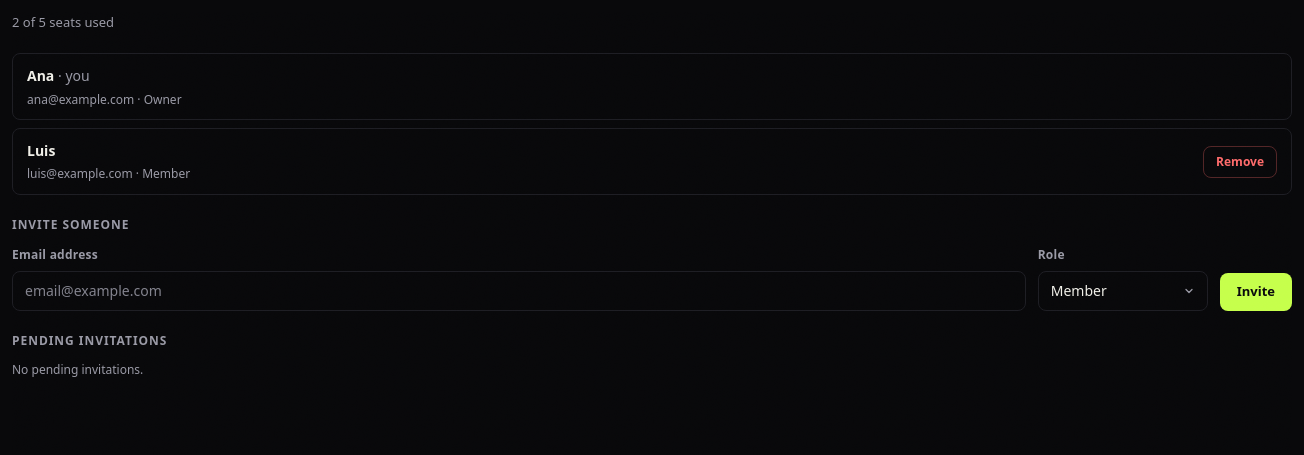
Test: TeamPanel — invitar › un 422 se muestra en el idioma de la interfaz
Expected: the text "2 of 5 seats used" is shown, [12,13,114,31]
Type "eva@example.com" into the field labelled "Email address".
click(519, 291); type("eva@example.com")  # box [12,271,1026,311]
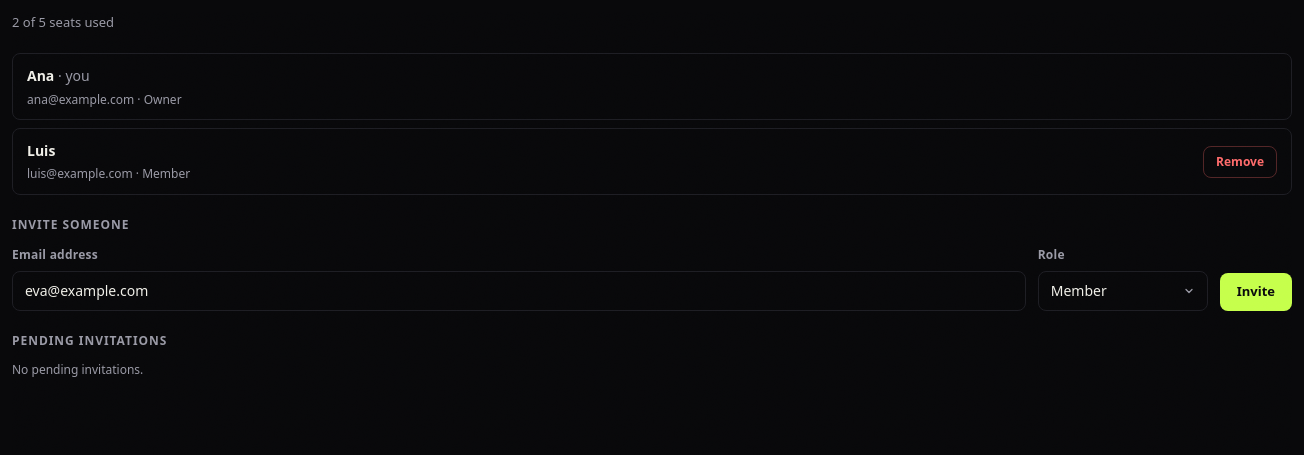
Click the button "Invite".
click(1256, 292)  # box [1220,273,1292,311]
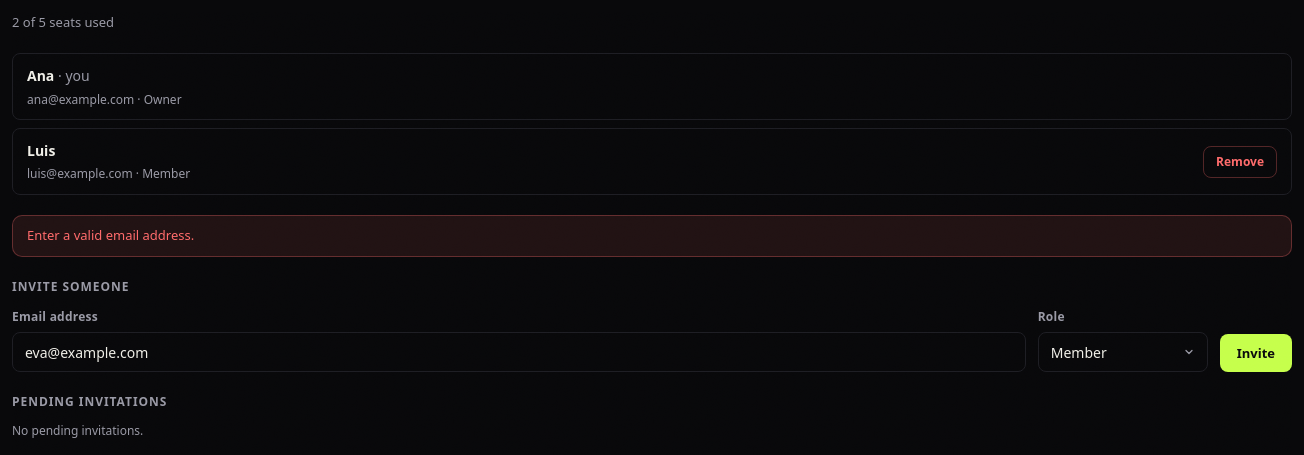
Expected: the text "Enter a valid email address." is shown, [27,226,194,246]
